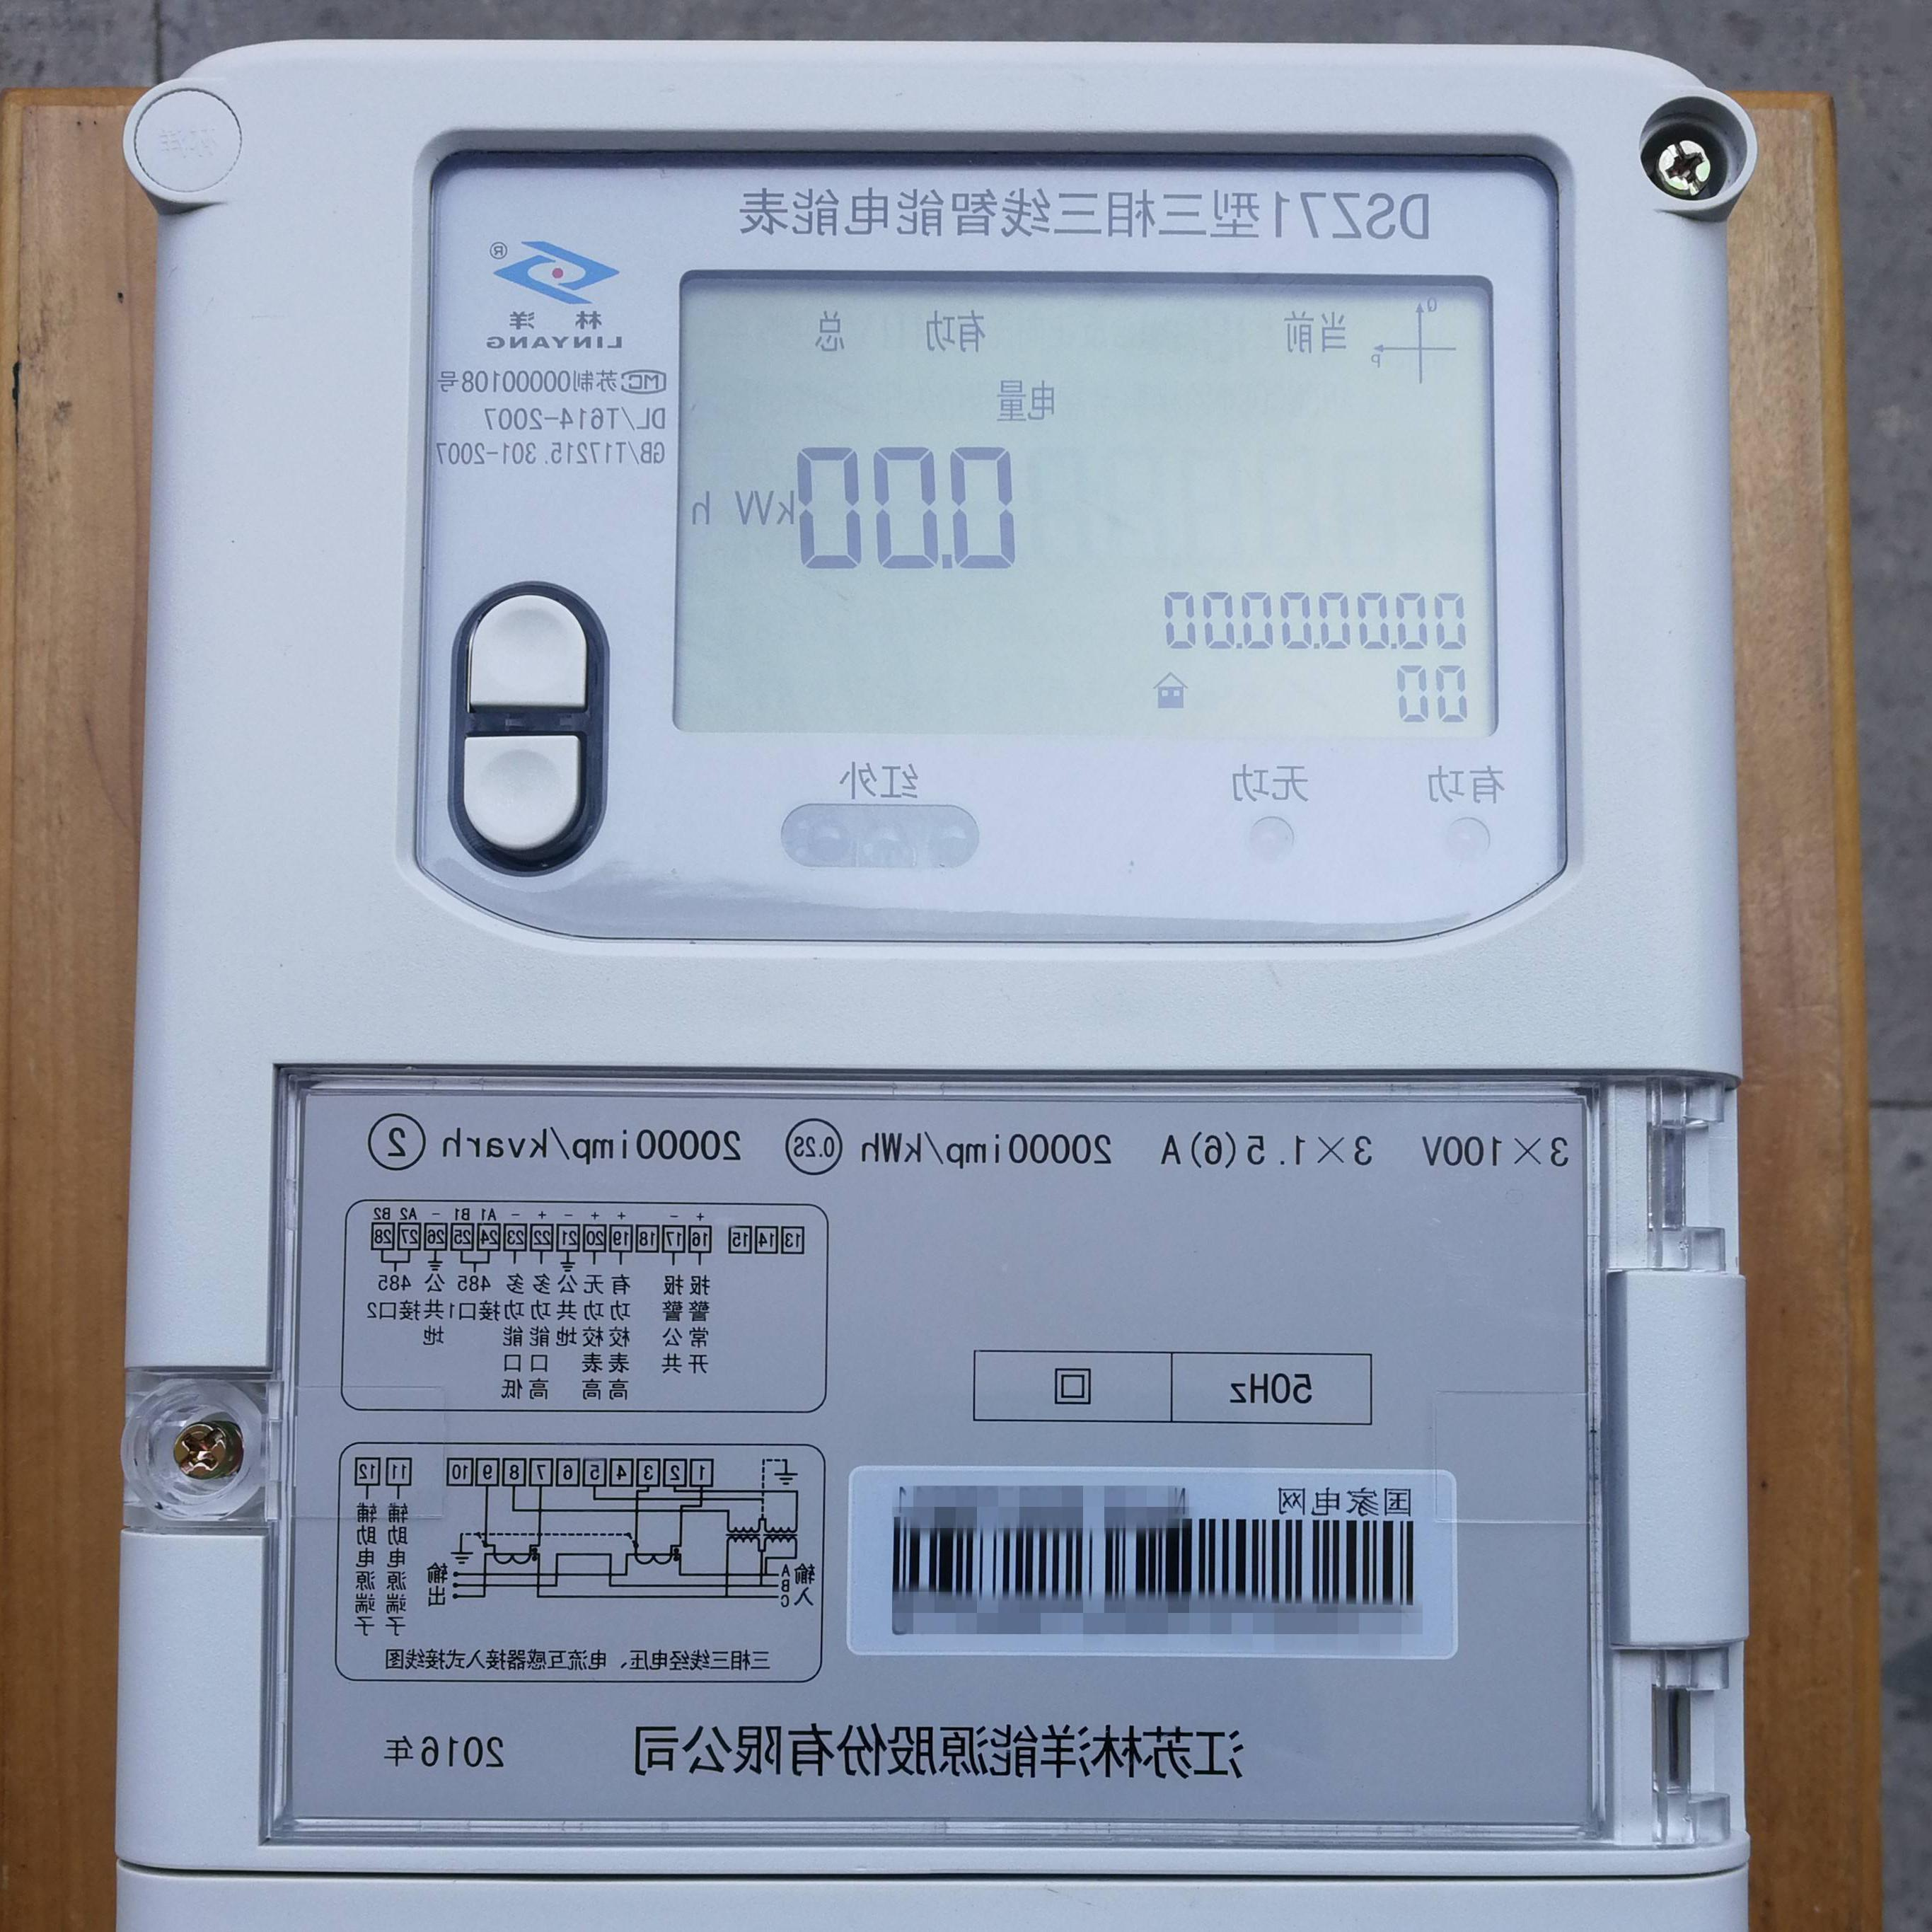digital: (117, 41, 1750, 1932)
